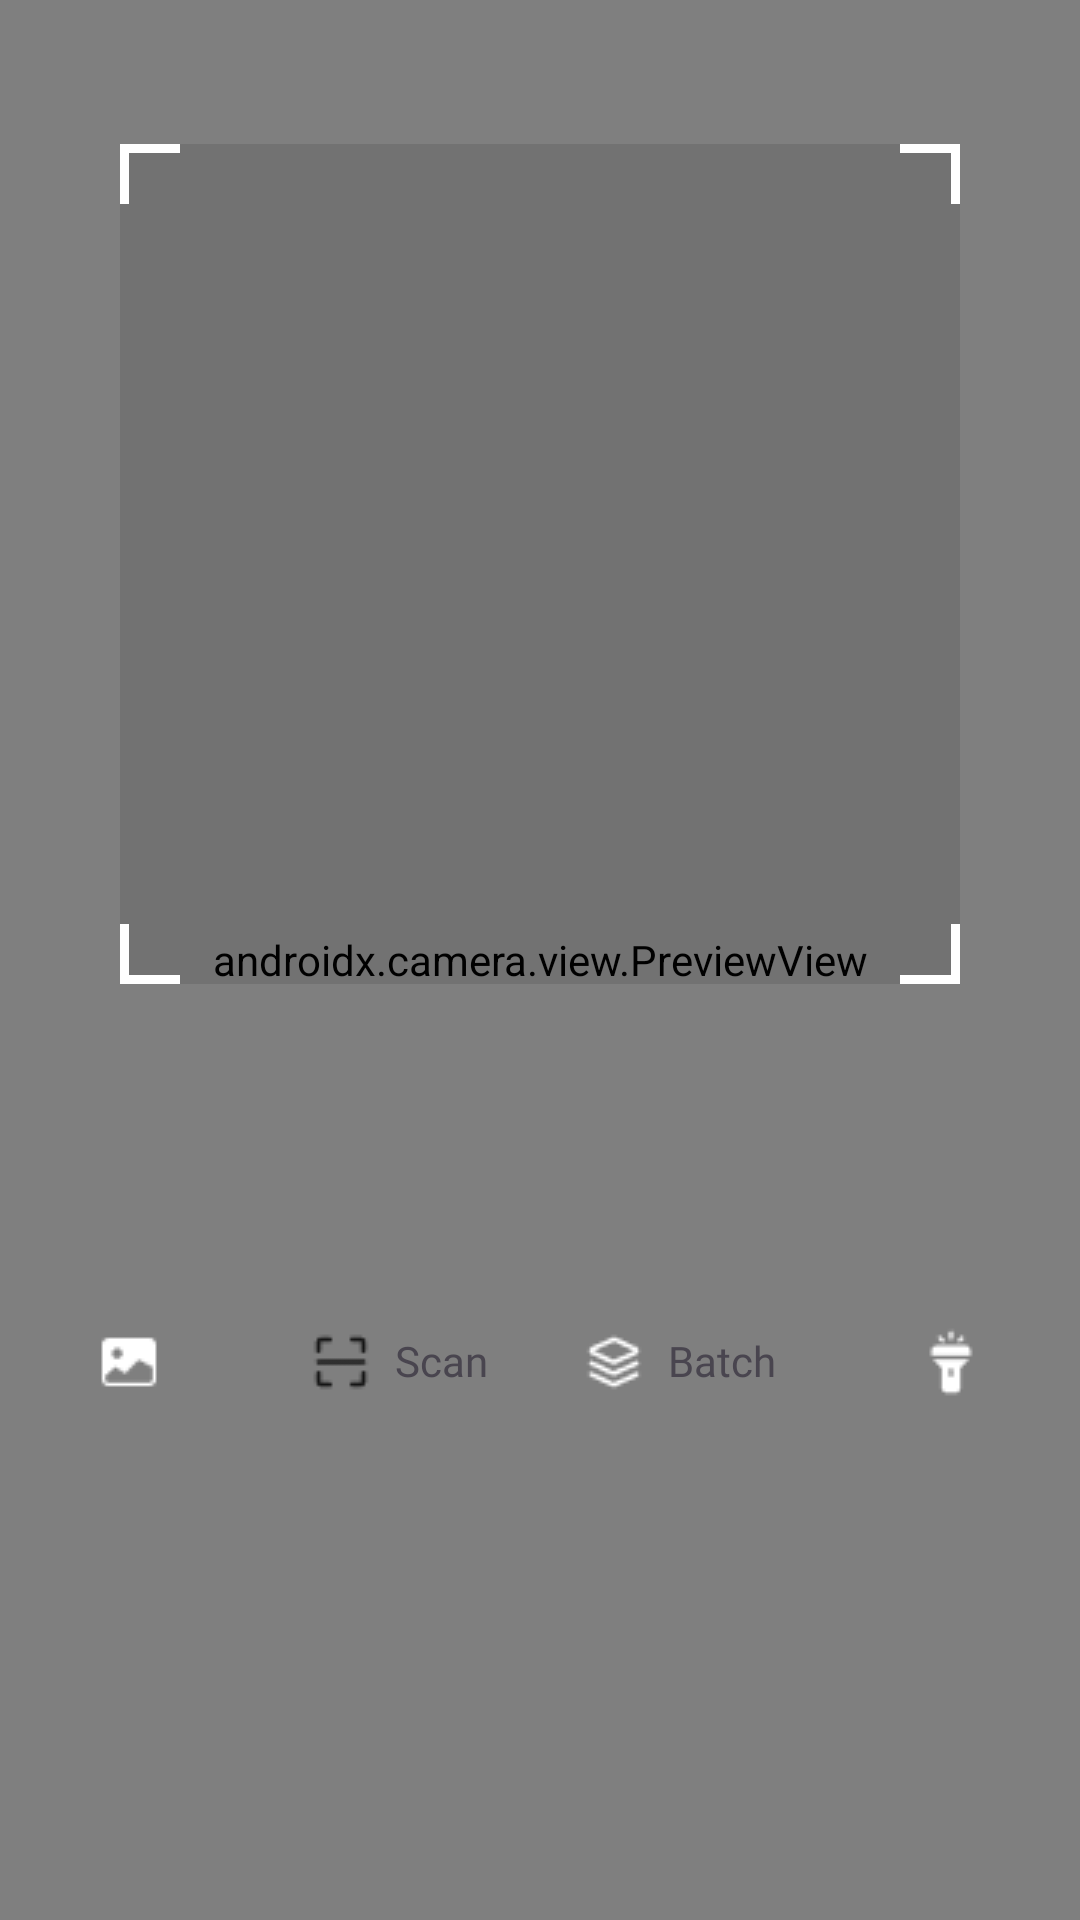

Locate icon controls on the screen. Image size 1080px x 1920px, boxes as (x1, y1, x2, y2).
flashlight: (930, 1331, 972, 1394)
gallery: (101, 1337, 157, 1387)
